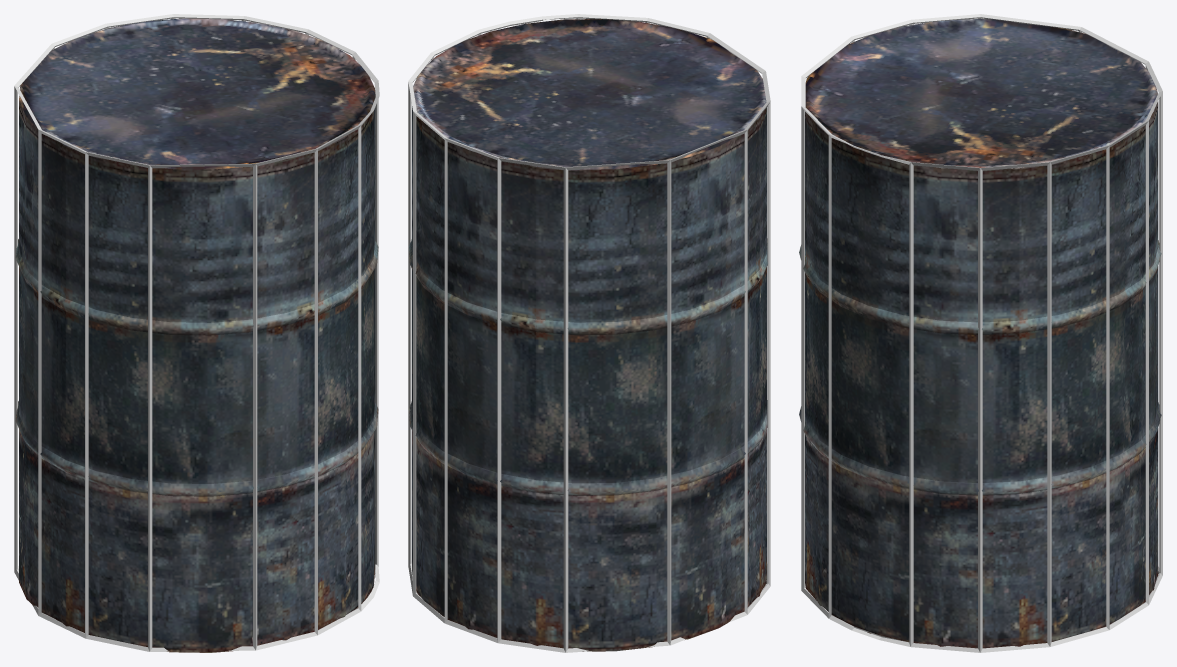
The model's file is barrel_black.fbx.
The picture shows the model from 3 angles, left to right: view 1: azimuth 30°, elevation 25°; view 2: azimuth 150°, elevation 25°; view 3: azimuth 270°, elevation 25°; orthographic projection.
Visible parts, largest first — view 1: Main_mesh, px_Main_mesh; view 2: Main_mesh, px_Main_mesh; view 3: Main_mesh, px_Main_mesh.
Boxes of the visible parts, x1,y1,x2,y2 form: Main_mesh: (15, 18, 378, 652); px_Main_mesh: (14, 14, 379, 651); Main_mesh: (408, 19, 768, 651); px_Main_mesh: (408, 14, 770, 652); Main_mesh: (799, 18, 1161, 648); px_Main_mesh: (801, 14, 1162, 652).
Size of the model in its own units: 0.7719 by 1.13 by 0.7694.
Materials: 1 (1 with a texture image).
